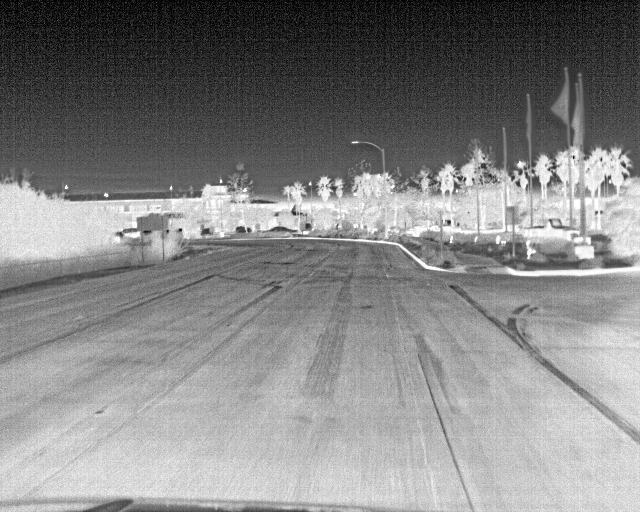car: (521, 214, 581, 240), (264, 224, 299, 238), (122, 226, 141, 241), (302, 223, 314, 234)
